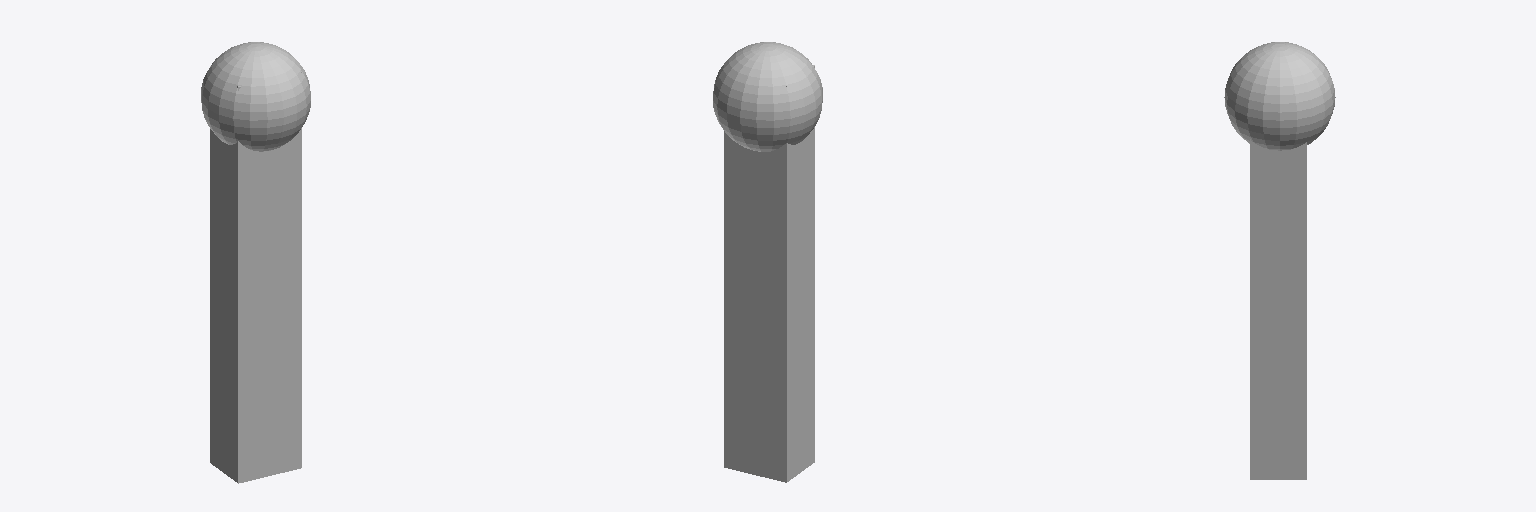
The model's file is rightleg.obj.
The picture shows the model from 3 angles: view 1: azimuth 30°, elevation 25°; view 2: azimuth 150°, elevation 25°; view 3: azimuth 270°, elevation 25°; orthographic projection.
Visible parts, largest first — view 1: pCube7, pSphere4; view 2: pCube7, pSphere4; view 3: pCube7, pSphere4.
Part boxes in pixels (x1,y1,x2,y2): pCube7: (210,66,301,483); pSphere4: (201,42,310,151); pCube7: (724,65,814,482); pSphere4: (713,42,822,151); pCube7: (1250,83,1306,479); pSphere4: (1224,42,1335,150).
Size of the model in its own units: 2.26 by 9.39 by 2.26.